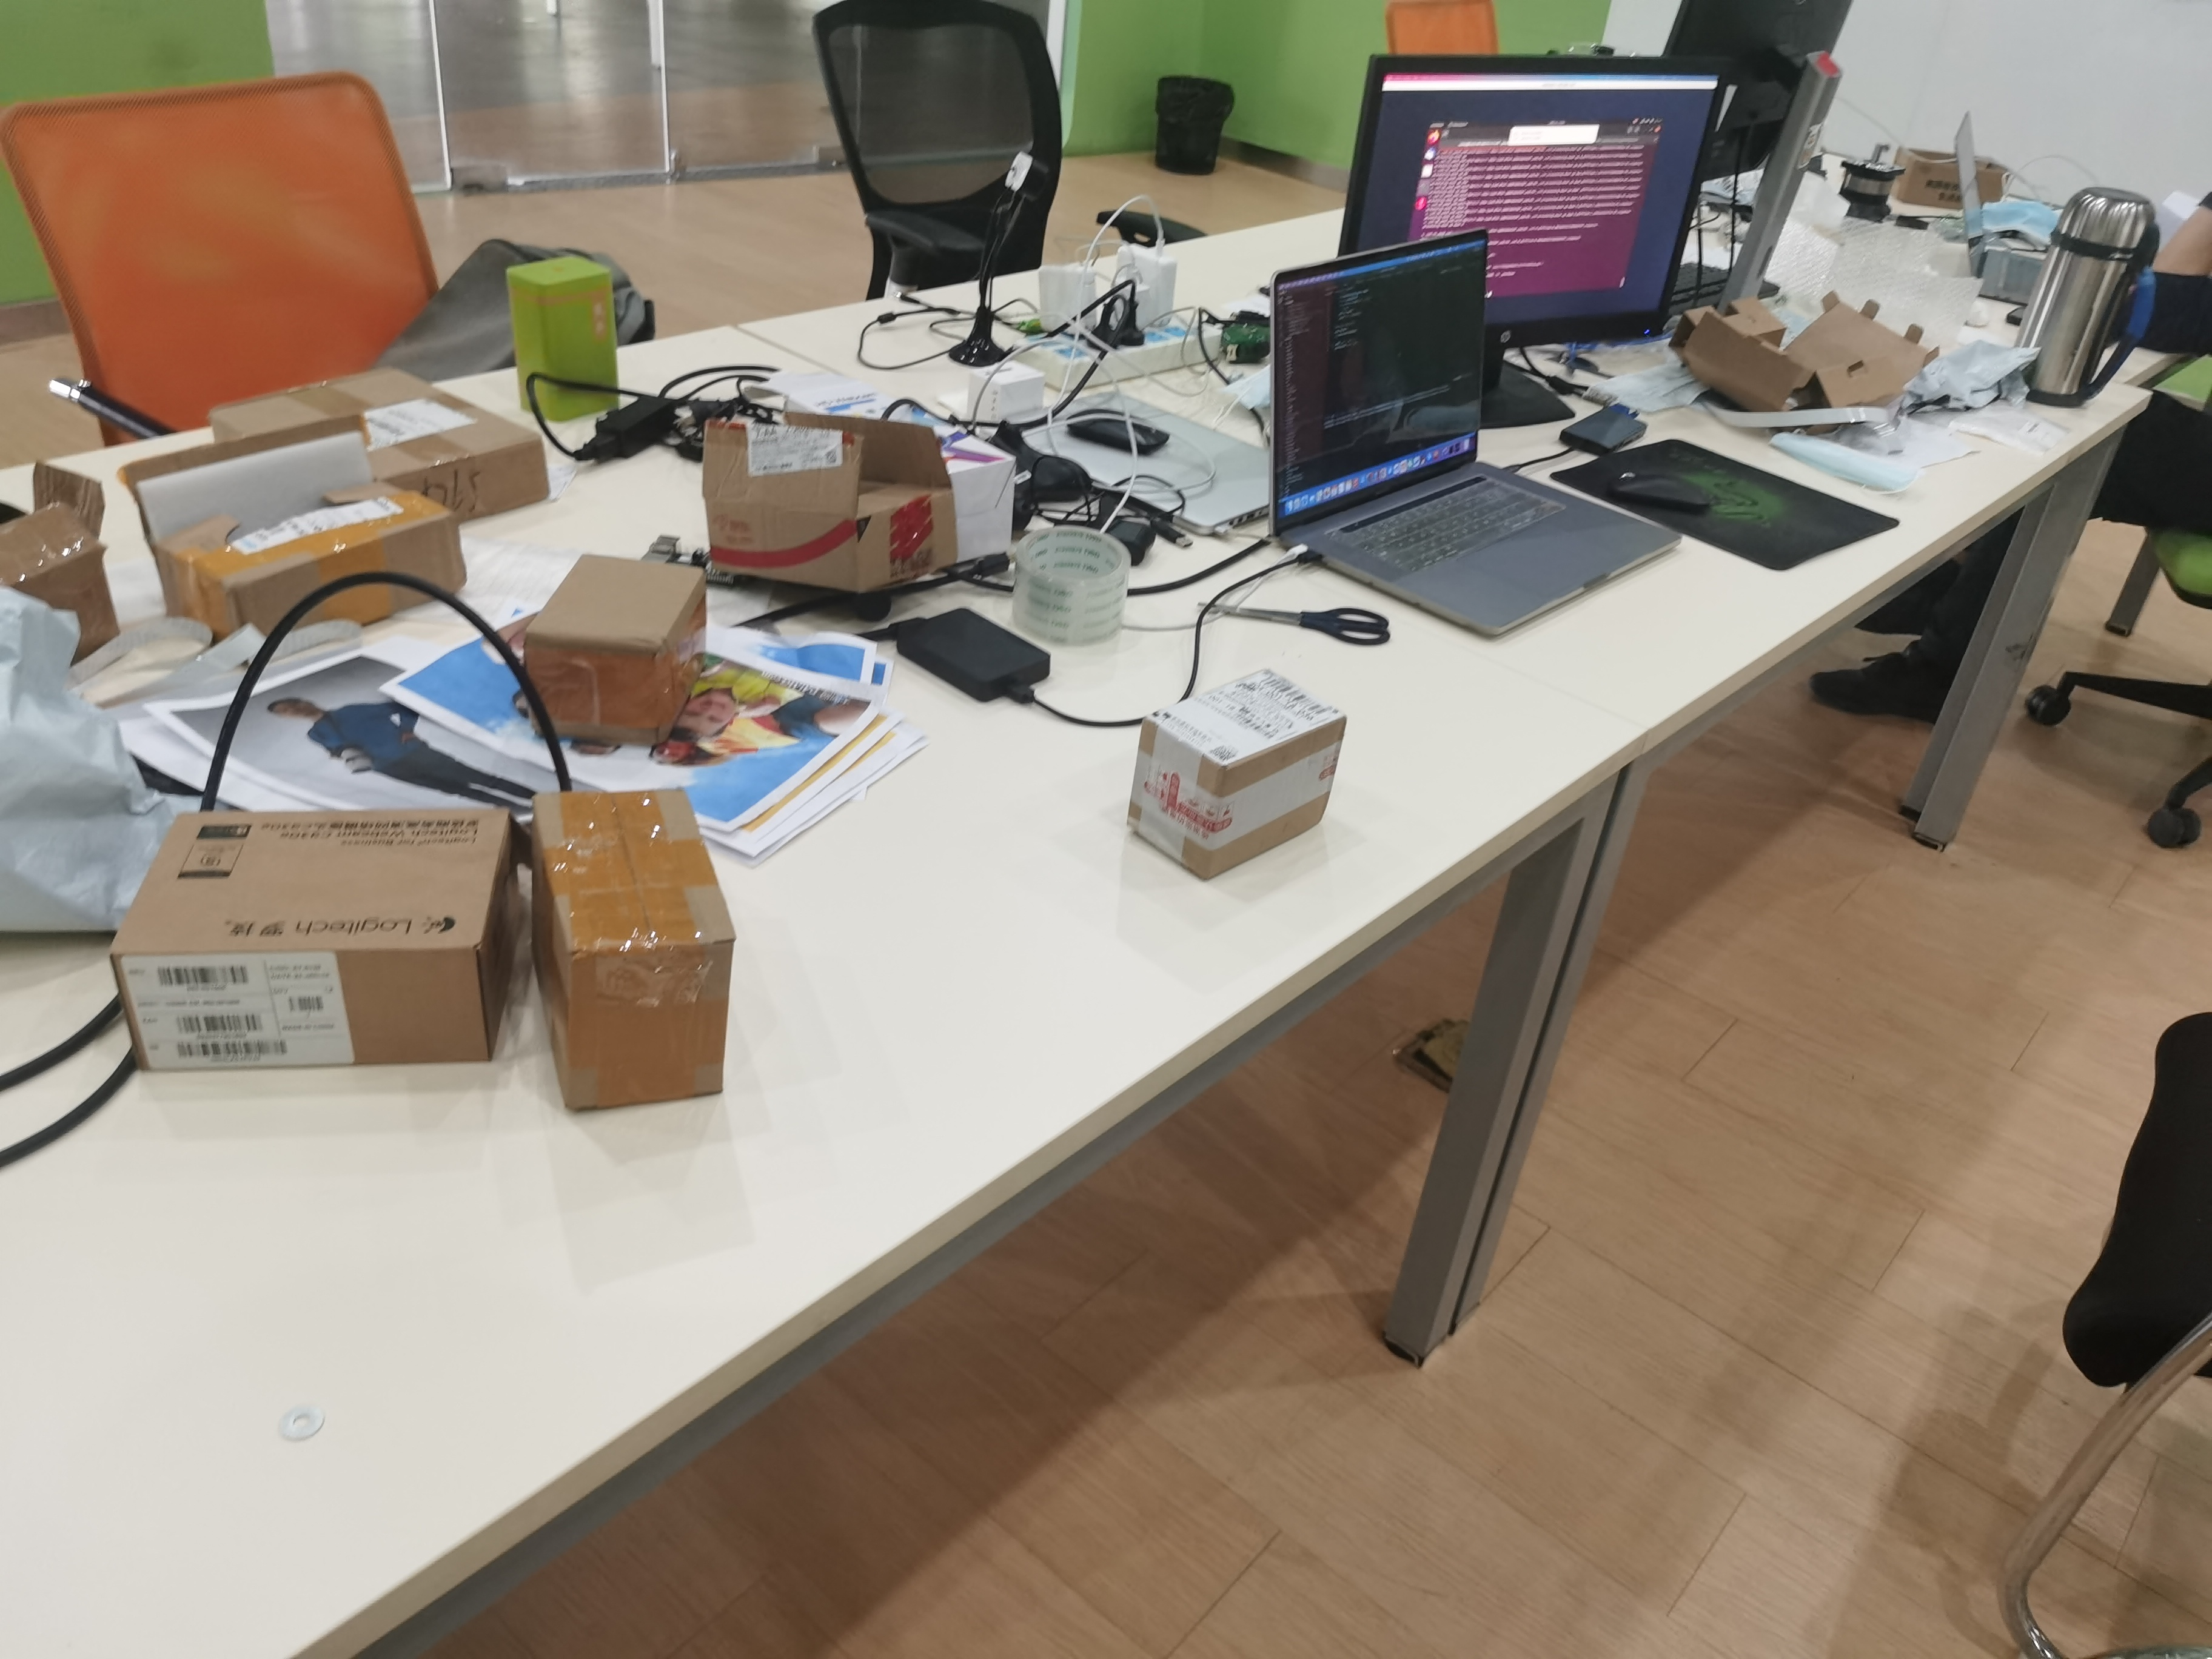box: (96, 769, 529, 1127), (514, 755, 777, 1145), (108, 443, 479, 664), (1097, 662, 1364, 901), (688, 425, 989, 591), (505, 540, 723, 737)
